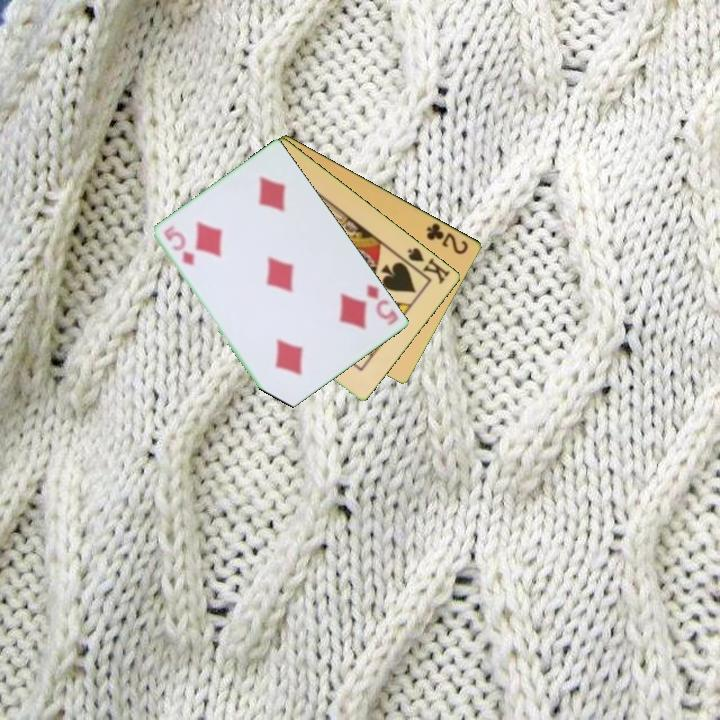2c: (423, 219, 472, 257)
5d: (363, 281, 402, 328), (160, 223, 198, 269)
Ks: (404, 244, 453, 287)
